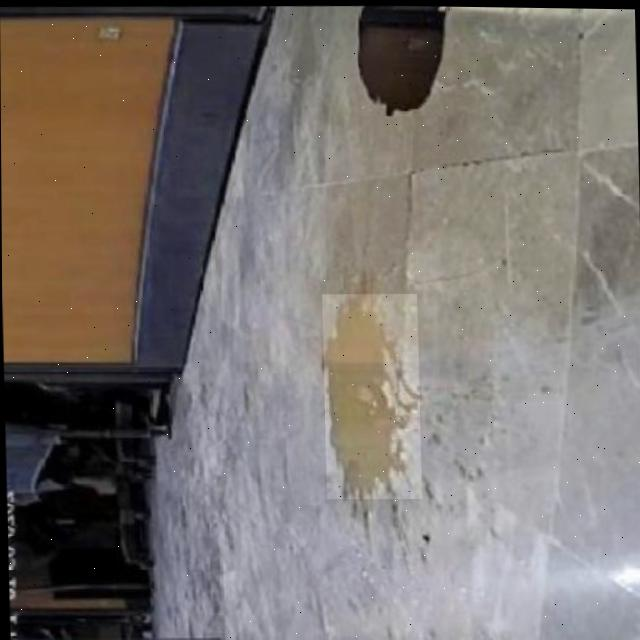spillage: (323, 291, 419, 496), (358, 5, 450, 113)
